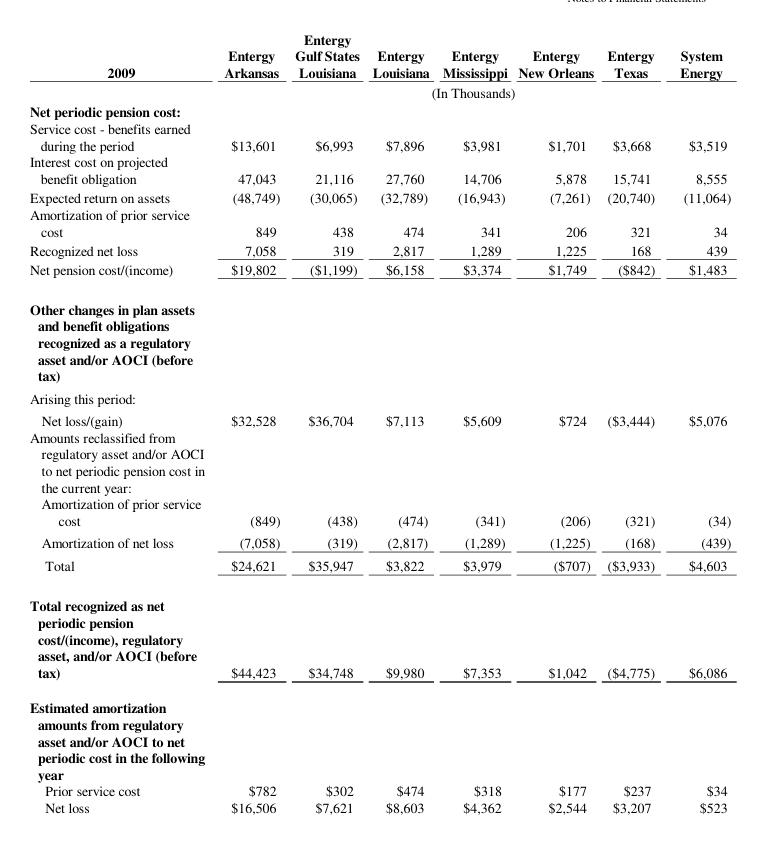table: (29, 29, 730, 815)
table column: (29, 29, 211, 815), (512, 29, 599, 815), (286, 29, 365, 815), (435, 29, 512, 815), (211, 29, 286, 815), (365, 29, 435, 815), (599, 29, 666, 815), (666, 29, 730, 815)
table column header: (29, 29, 730, 101)
table projected row header: (29, 288, 730, 386), (29, 689, 730, 782), (29, 427, 730, 494), (29, 386, 730, 408), (29, 101, 730, 119)
table row: (29, 585, 730, 689), (29, 288, 730, 386), (29, 689, 730, 782), (29, 427, 730, 494), (29, 29, 730, 81), (29, 494, 730, 530), (29, 152, 730, 187), (29, 205, 730, 239), (29, 119, 730, 152), (29, 553, 730, 585), (29, 258, 730, 288), (29, 530, 730, 553), (29, 386, 730, 408), (29, 81, 730, 101), (29, 239, 730, 258), (29, 408, 730, 427), (29, 101, 730, 119), (29, 187, 730, 205), (29, 798, 730, 815), (29, 782, 730, 798)
table spanning cell: (29, 29, 211, 101), (211, 81, 730, 101)
